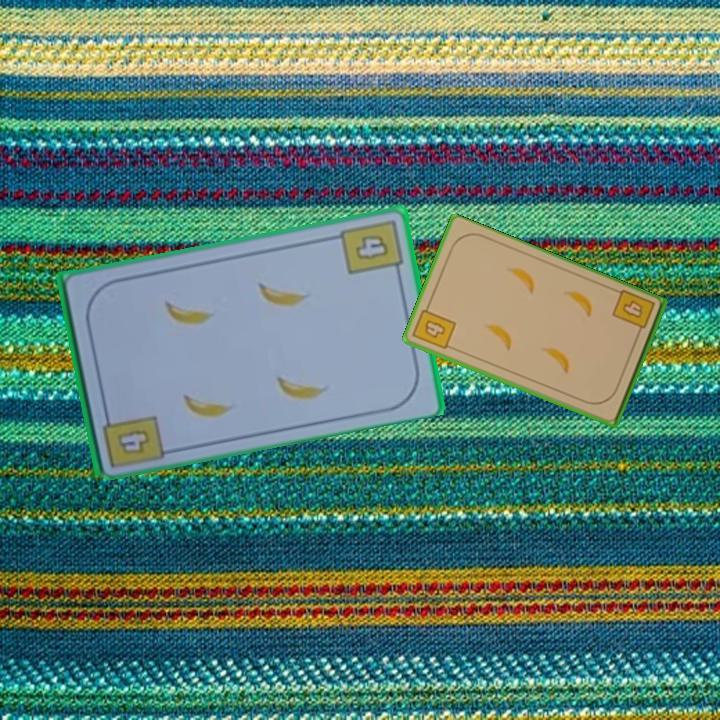4b: (337, 215, 405, 279), (609, 286, 658, 340), (410, 300, 459, 353), (113, 425, 154, 457)
